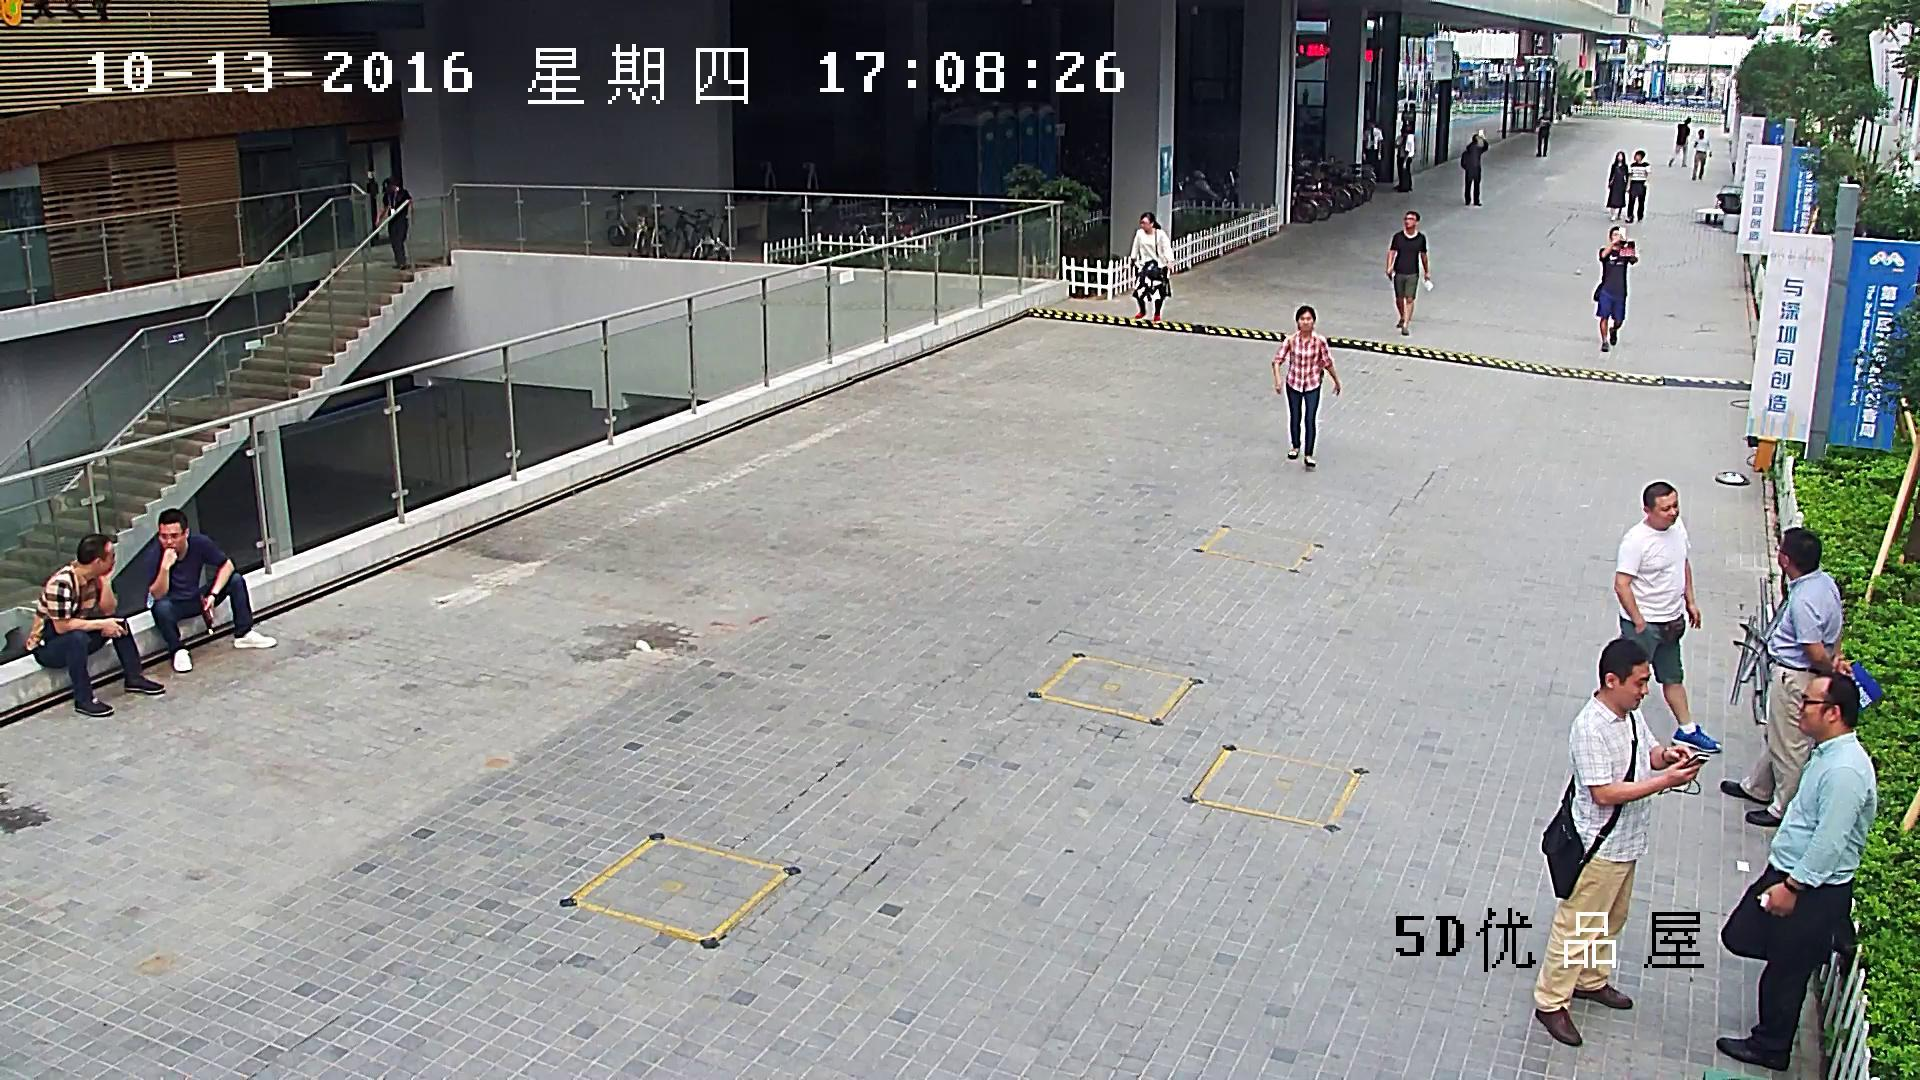person: (1532, 638, 1712, 1045), (1717, 674, 1879, 1071), (1719, 526, 1879, 826), (1612, 481, 1724, 753), (23, 533, 166, 717), (146, 508, 276, 672), (1272, 304, 1341, 464), (1386, 210, 1433, 335), (1593, 225, 1637, 351), (1129, 211, 1176, 319), (375, 178, 414, 269), (1460, 128, 1488, 206), (1625, 150, 1650, 223), (1606, 150, 1628, 220), (1362, 119, 1384, 173), (1398, 124, 1415, 192), (1669, 117, 1691, 167), (1691, 129, 1711, 180), (1535, 108, 1550, 157)
